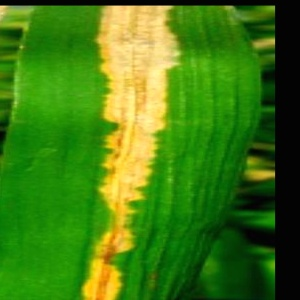Leaf_Blast: (0, 7, 251, 300)
